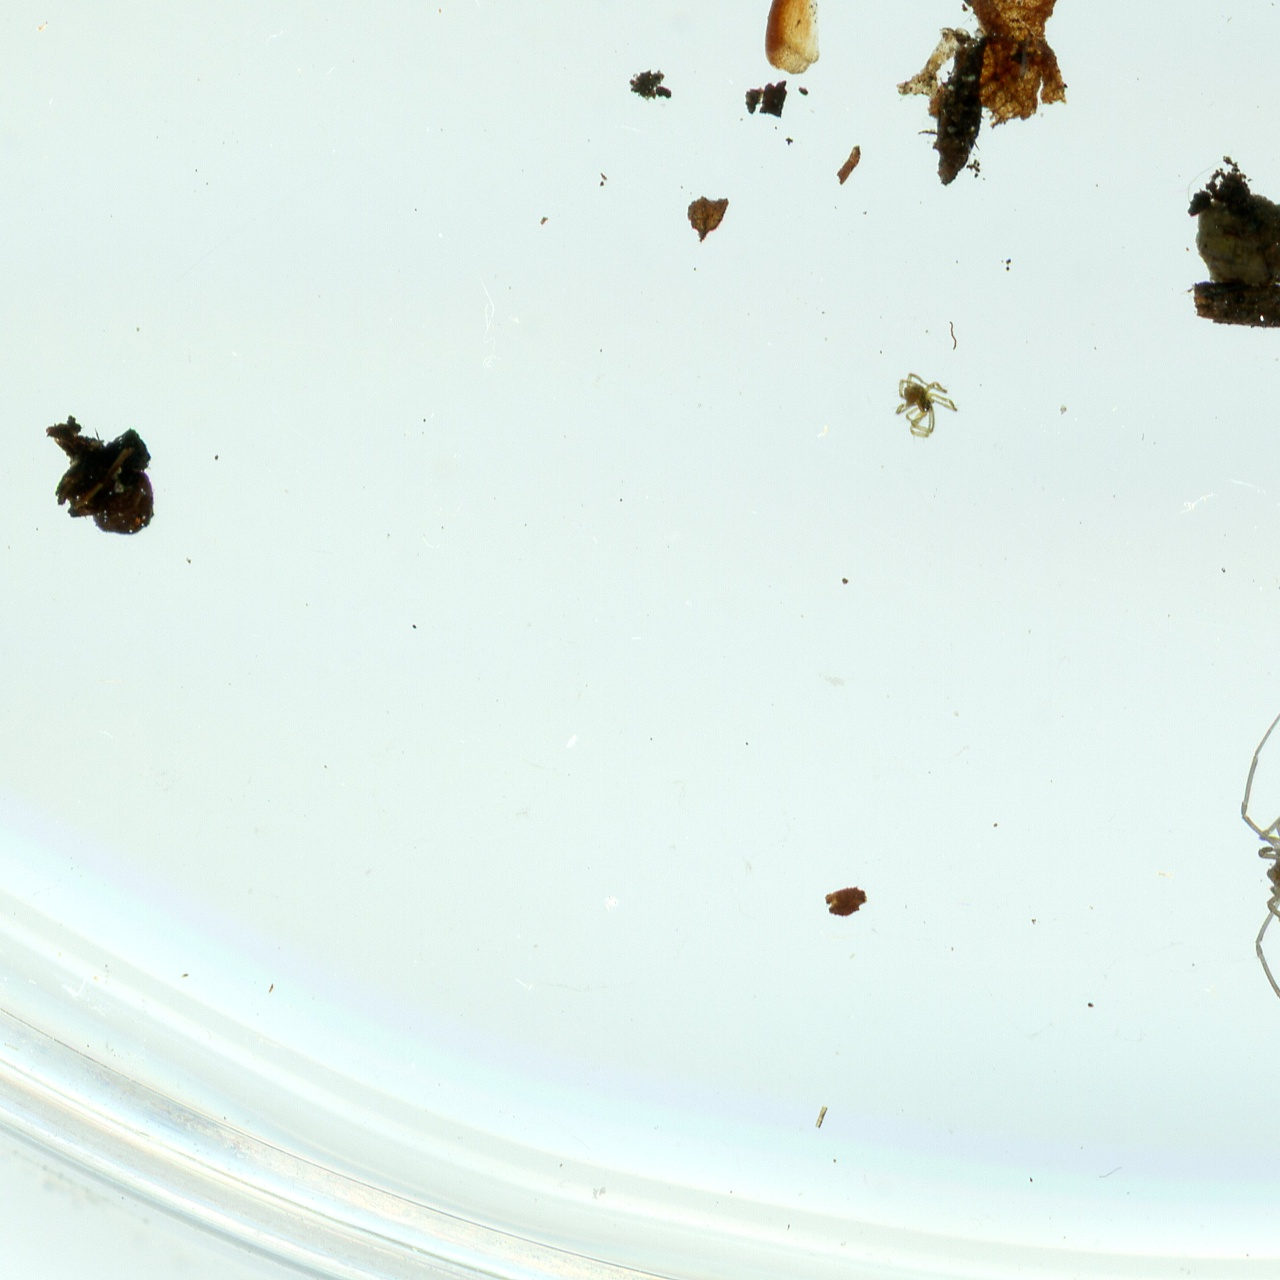arthropod: (1234, 660, 1280, 1053), (890, 366, 965, 445)
